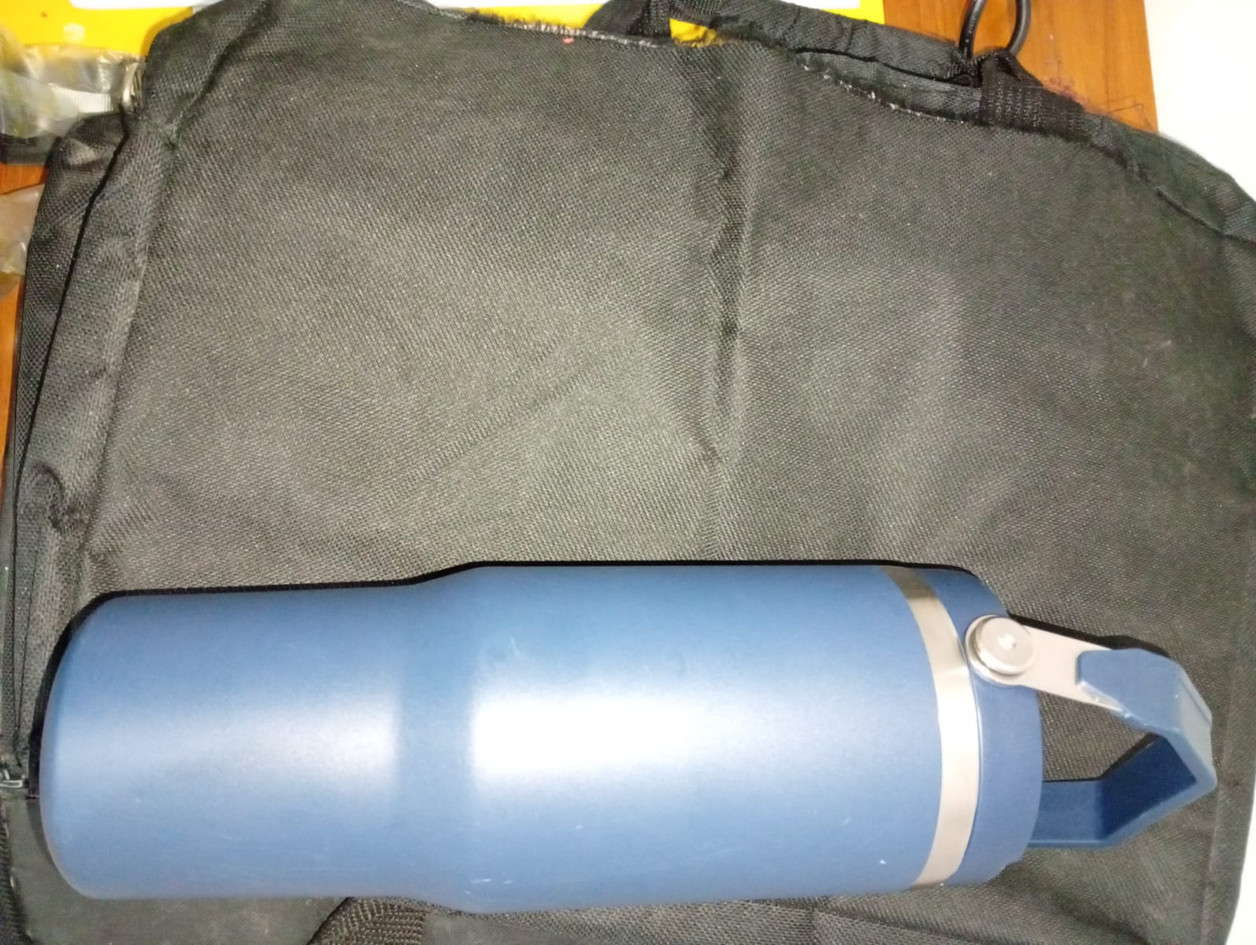Tupperware: (20, 555, 1236, 929)
